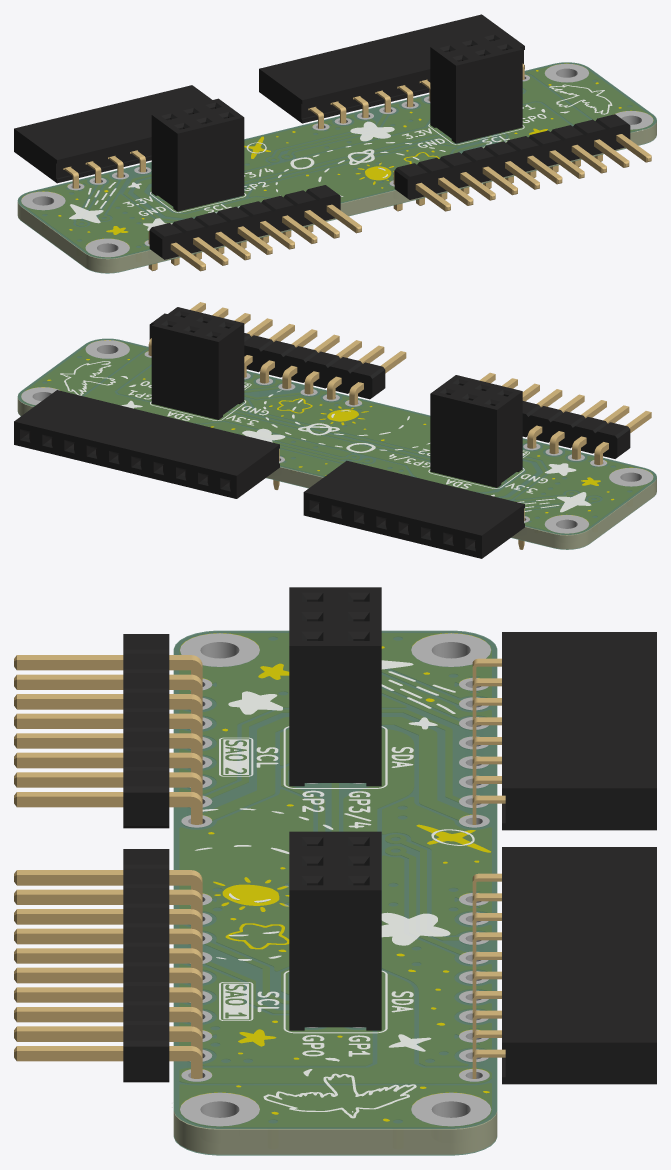
The model's file is why2025-sao-adapter.glb.
The picture shows the model from 3 angles, top to bottom: view 1: azimuth 30°, elevation 25°; view 2: azimuth 150°, elevation 25°; view 3: azimuth 270°, elevation 25°; orthographic projection. The views are drawn at different scales.
Parts seen in each view (by area): view 1: =>[0:1:1:3], =>[0:1:1:15]; view 2: =>[0:1:1:3], =>[0:1:1:15]; view 3: =>[0:1:1:3], =>[0:1:1:15].
Boxes of the visible parts, x1,y1,x2,y2 form: =>[0:1:1:3]: [14, 14, 653, 271]; =>[0:1:1:15]: [17, 62, 656, 273]; =>[0:1:1:3]: [14, 302, 653, 558]; =>[0:1:1:15]: [17, 338, 656, 549]; =>[0:1:1:3]: [14, 587, 656, 1126]; =>[0:1:1:15]: [171, 630, 497, 1155].
Size of the model in its own units: 0.0648 by 0.0118 by 0.0353.
2 materials, 2 textured.
